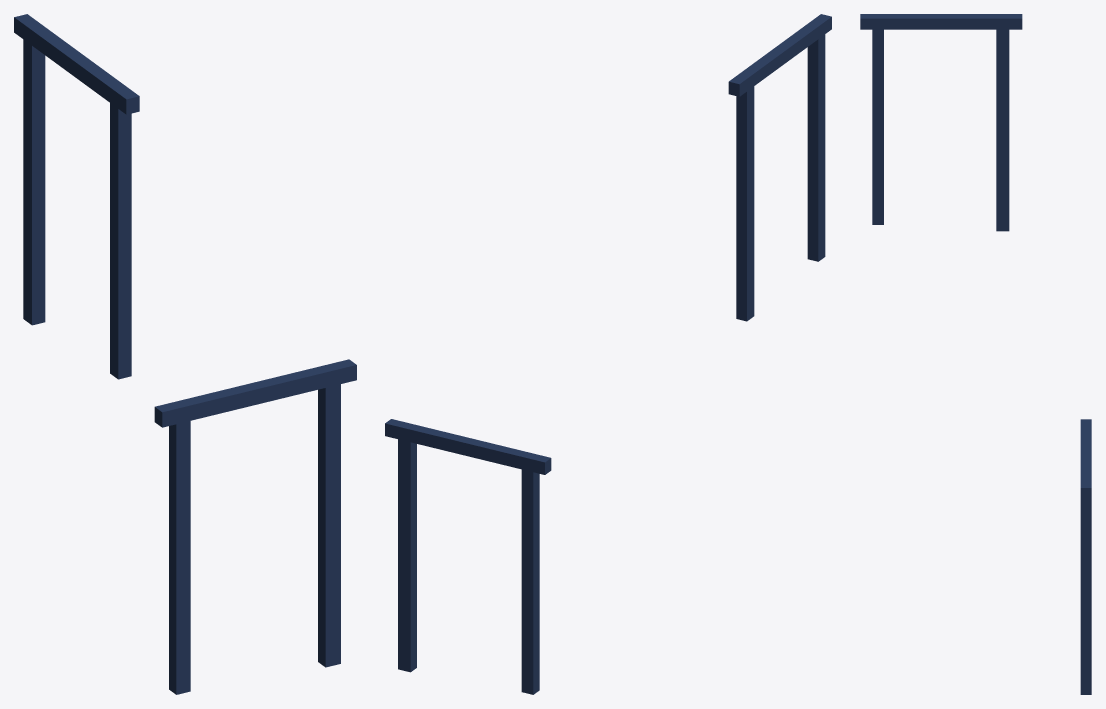
File: doorFrames.obj
The picture shows the model from 3 angles, left to right: view 1: azimuth 30°, elevation 25°; view 2: azimuth 150°, elevation 25°; view 3: azimuth 270°, elevation 25°; orthographic projection. The views are drawn at different scales.
Parts seen in each view (by area): view 1: dpor-frames; view 2: dpor-frames; view 3: dpor-frames.
Part boxes in pixels (x1,y1,x2,y2): dpor-frames: [14, 14, 356, 694]; dpor-frames: [385, 14, 831, 694]; dpor-frames: [860, 14, 1091, 694].
Size of the model in its own units: 2.11 by 4.04 by 1.53.
